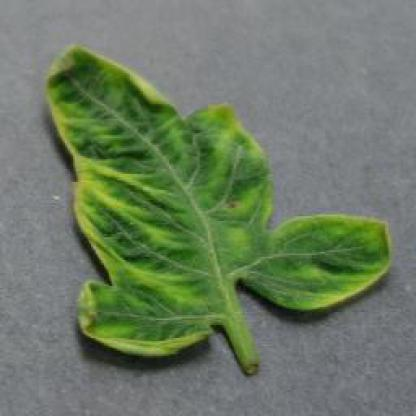bad leaf: (48, 73, 370, 373)
